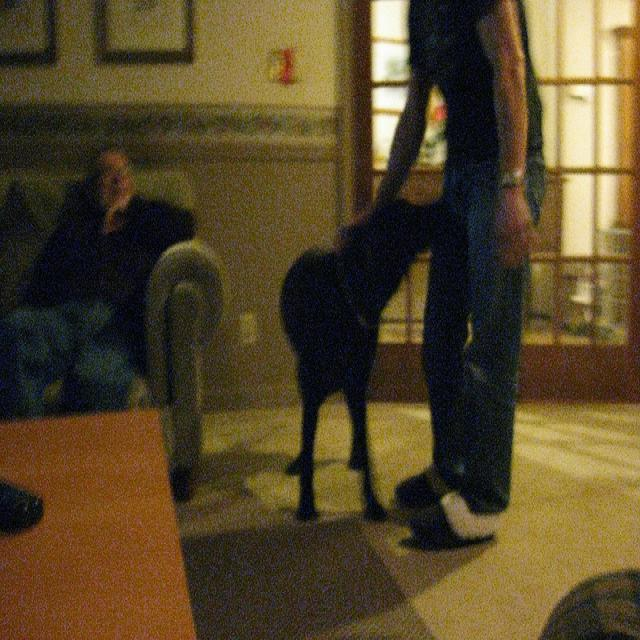Dog: (189, 136, 472, 512)
